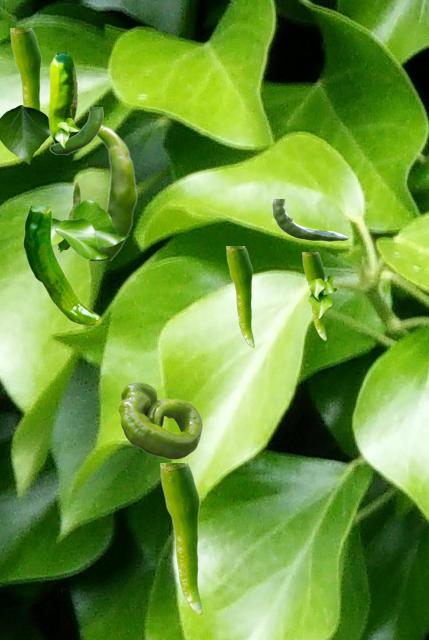green_chili: (23, 206, 100, 325), (88, 125, 137, 259), (118, 382, 201, 458), (160, 463, 201, 614), (10, 28, 42, 147), (272, 199, 347, 240), (226, 246, 253, 346), (48, 52, 76, 143), (49, 107, 102, 154), (302, 252, 325, 339), (58, 180, 80, 248)
